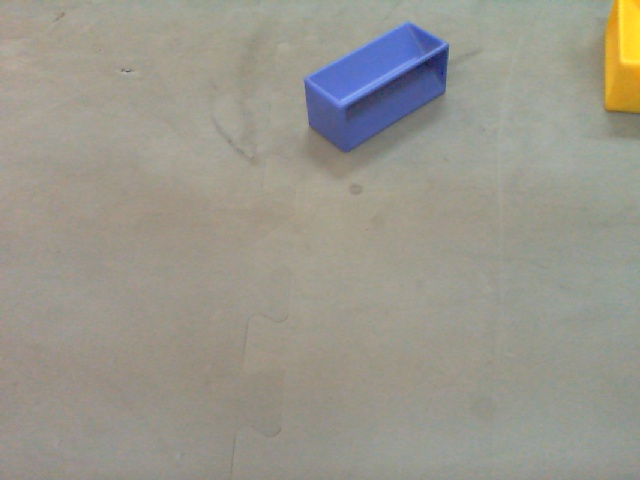BlueSample: (300, 19, 453, 154)
YellowSample: (602, 1, 640, 118)
